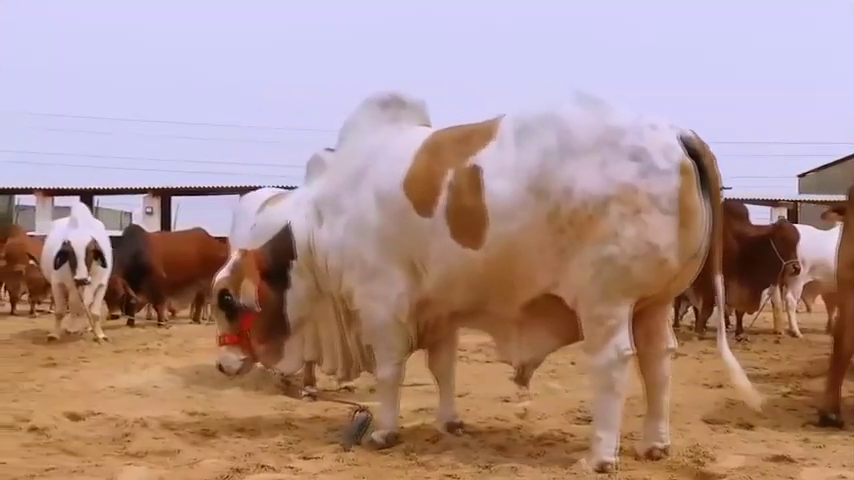bo: (200, 79, 768, 476), (679, 185, 800, 355), (104, 212, 230, 341), (20, 176, 110, 342), (769, 205, 841, 350), (3, 215, 46, 321)
